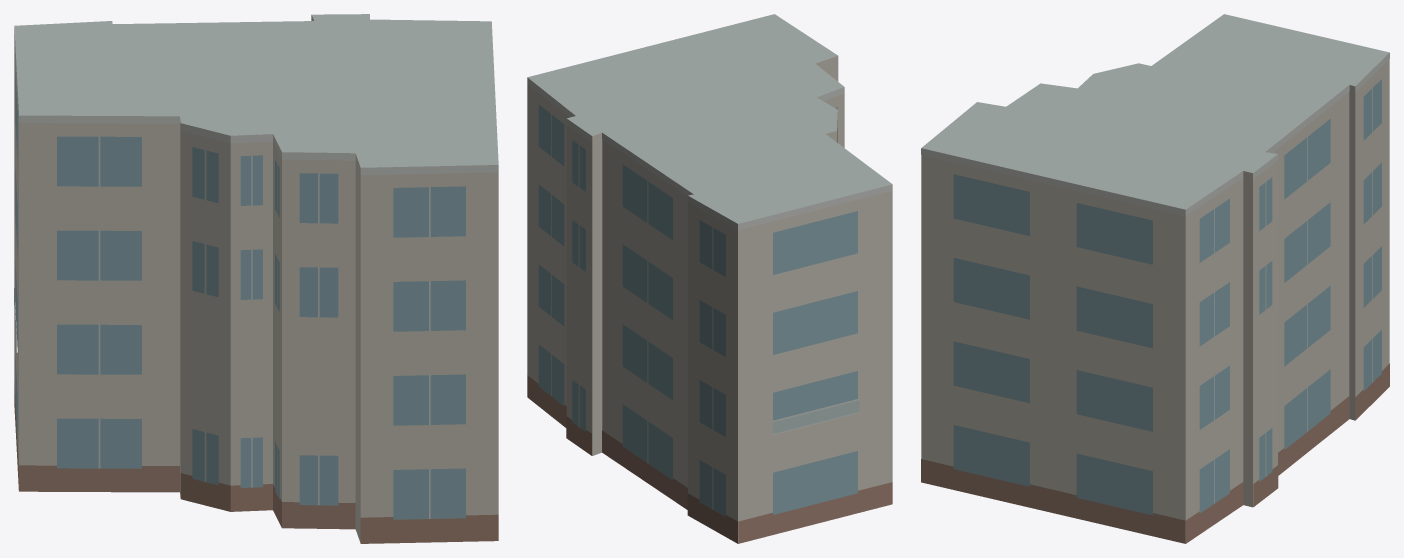
File: survey-upis-32933407.glb
The picture shows the model from 3 angles, left to right: view 1: azimuth 30°, elevation 25°; view 2: azimuth 150°, elevation 25°; view 3: azimuth 270°, elevation 25°; orthographic projection. The views are drawn at different scales.
Parts seen in each view (by area): view 1: survey-upis-32933407.tmp; view 2: survey-upis-32933407.tmp; view 3: survey-upis-32933407.tmp.
Part boxes in pixels (x1,y1,x2,y2): survey-upis-32933407.tmp: (14,14,498,543); survey-upis-32933407.tmp: (527,14,892,543); survey-upis-32933407.tmp: (921,14,1389,543).
Size of the model in its own units: 15.45 by 12.3 by 15.64.
